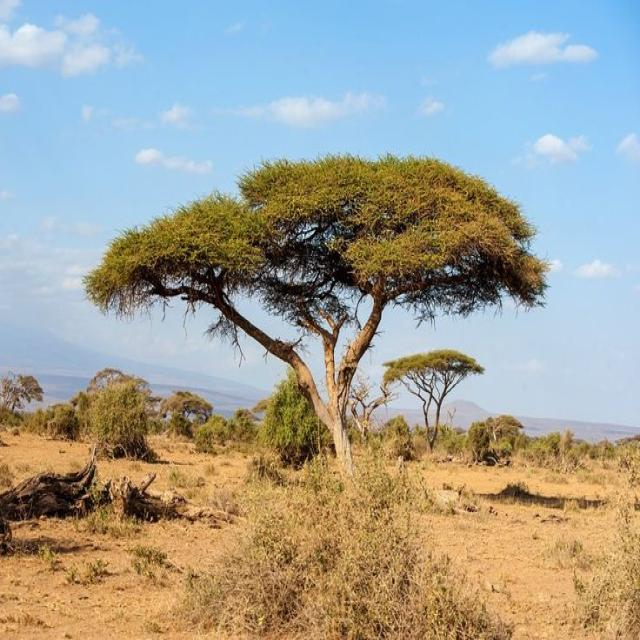Acacia: (100, 156, 546, 473)
